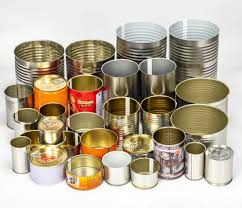can: (5, 16, 238, 193)
